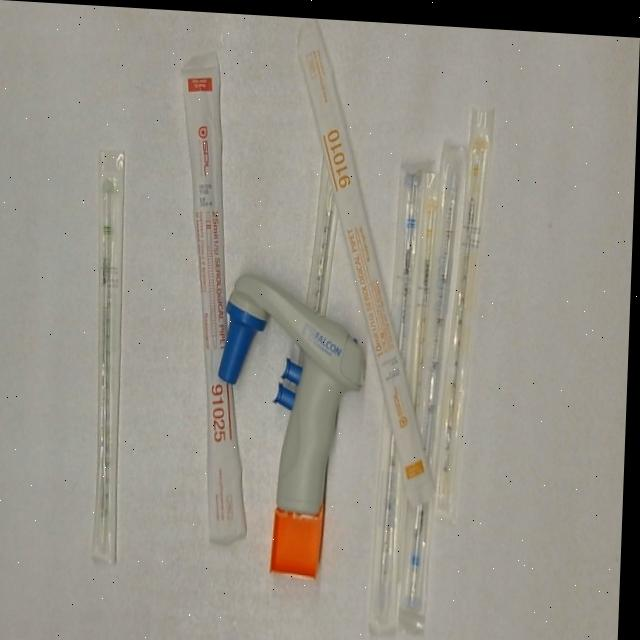Pipette Controller: (216, 271, 374, 574)
Serelogical Pipet 1 mL: (435, 99, 501, 517), (405, 164, 450, 418)
Serelogical Pipet 10 mL: (281, 18, 450, 504)
Serelogical Pipet 2 mL: (89, 146, 135, 566)
Serelogical Pipet 25 mL: (166, 44, 278, 547)
Serelogical Pipet 5 mL: (403, 133, 472, 614), (371, 146, 431, 631)
